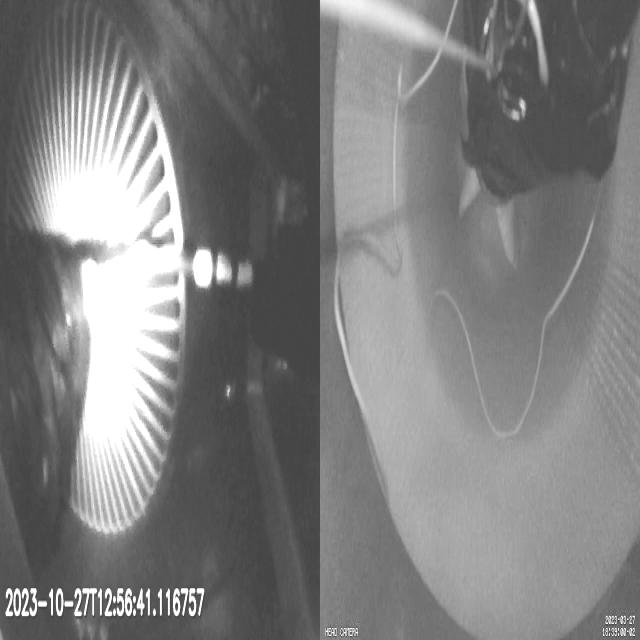white-dots: (192, 246, 252, 291)
